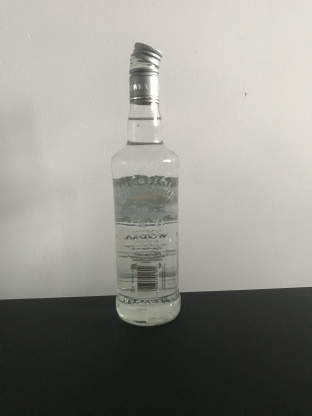nakretka: (127, 39, 164, 105)
